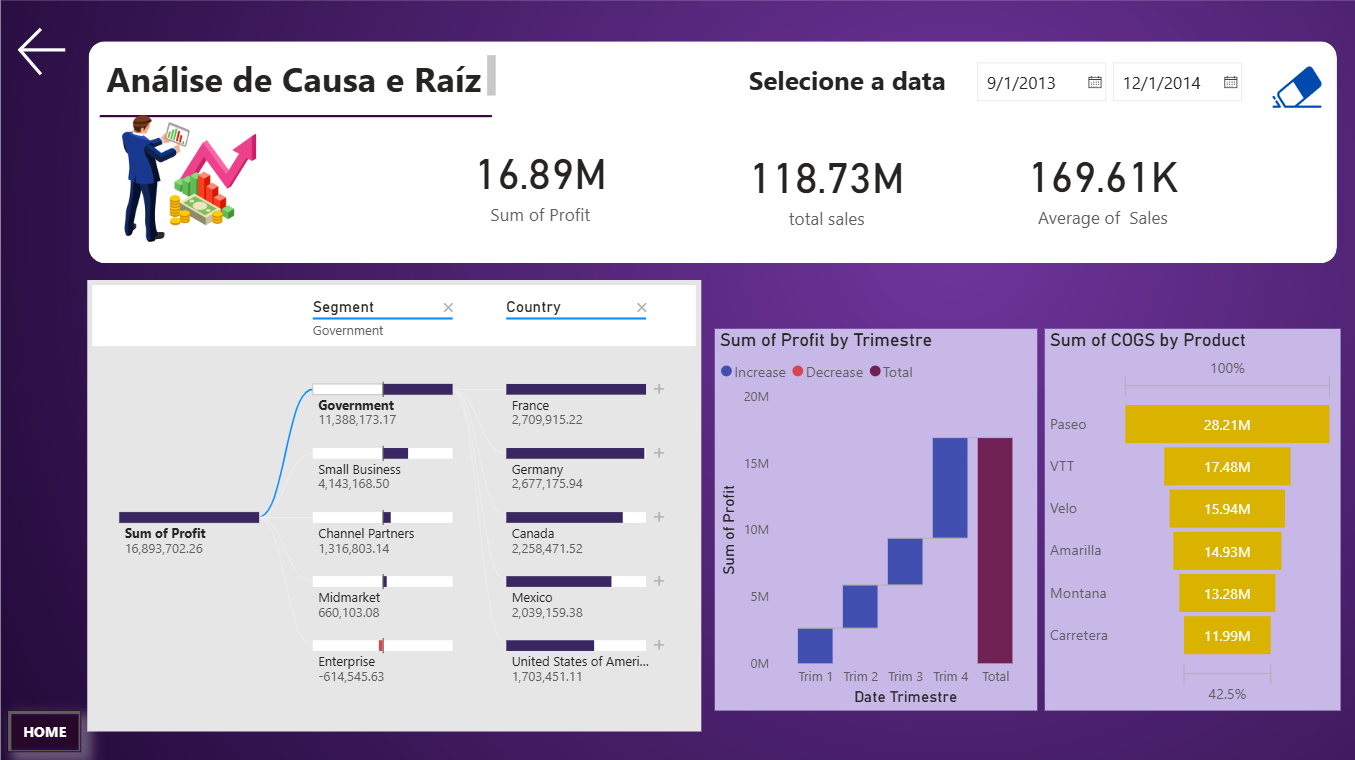

What the dashboard file says about the page in this screenshot:
{"tool":"powerbi","page":{"name":"Analise de Causa Raiz","canvas":[1280,720],"ordinal":4},"visuals":[{"type":"image","title":"fundo_purple","box":[0,0,1280.3,720],"z":0},{"type":"shape","box":[91.3,42.5,1161.3,206.6],"z":0,"group":"g1"},{"type":"actionButton","title":"Botão - Next","box":[19.8,24.4,58,56.3],"z":1000},{"type":"shape","box":[101.3,96.9,365,30],"z":1000,"group":"g1"},{"type":"slicer","fields":{"Values":["financials.Date"]},"box":[905.3,51.8,272.2,55.6],"z":2000,"group":"g1"},{"type":"actionButton","box":[1196.5,61.2,58.4,40.3],"z":2000},{"type":"textbox","box":[700.1,57.5,199.6,45.6],"z":3000,"group":"g1"},{"type":"textbox","box":[18.6,670.9,62.8,29.1],"z":3000},{"type":"card","fields":{"Values":["financials.total sales"]},"box":[672.6,124.4,211,105.5],"z":4000,"group":"g1"},{"type":"actionButton","box":[15.1,665.1,68.6,39.5],"z":4000},{"type":"group","id":"g1","title":"Filtro por data","box":[89.7,42.5,1162.9,206.6],"z":5000},{"type":"textbox","box":[102.6,50.6,372.5,50],"z":5000,"group":"g1"},{"type":"actionButton","box":[1191.8,56.1,59.9,51.3],"z":6000,"group":"g1"},{"type":"decompositionTreeVisual","fields":{"Analyze":["Sum(financials.Profit)"],"ExplainBy":["financials.Segment","financials.Country","financials.Product"]},"box":[90,265,571.2,420],"z":6000},{"type":"waterfallChart","fields":{"Category":["financials.Date.Variation.Hierarquia de datas.Trimestre"],"Y":["Sum(financials.Profit)"]},"box":[673.8,310,300,355],"z":6001},{"type":"funnel","fields":{"Category":["financials.Product"],"Y":["Sum(financials.COGS)"]},"box":[980,310,275,355],"z":6002},{"type":"actionButton","box":[1171.2,62.5,73.8,51.2],"z":6003},{"type":"image","title":"clean","box":[1185.1,58.1,59.9,55.6],"z":8000,"group":"g1"},{"type":"card","fields":{"Values":["Avg(financials. Sales)"]},"box":[928.8,123.1,211,105.5],"z":9000,"group":"g1"},{"type":"card","fields":{"Values":["Sum(financials.Profit)"]},"box":[406.3,120.6,211,105.5],"z":11000,"group":"g1"},{"type":"image","box":[89.7,101.9,224.4,137.2],"z":12000,"group":"g1"}]}

Visuals, with their boxes in screenshot pixels (x1, y1, x2, y2), scaled from the page's 1280x720 canvas onto the 1355x760 screenshot:
"fundo_purple" image: locate(0, 0, 1354, 759)
shape: locate(97, 45, 1326, 263)
"Botão - Next" actionButton: locate(21, 26, 82, 85)
shape: locate(107, 102, 494, 134)
slicer - financials.Date: locate(958, 55, 1246, 113)
actionButton: locate(1267, 65, 1328, 107)
textbox: locate(741, 61, 952, 109)
textbox: locate(20, 708, 86, 739)
card - financials.total sales: locate(712, 131, 935, 243)
actionButton: locate(16, 702, 89, 744)
"Filtro por data" group: locate(95, 45, 1326, 263)
textbox: locate(109, 53, 503, 106)
actionButton: locate(1262, 59, 1325, 113)
decompositionTreeVisual - Sum(financials.Profit) x financials.Segment: locate(95, 280, 700, 723)
waterfallChart - financials.Date.Variation.Hierarquia de datas.Trimestre x Sum(financials.Profit): locate(713, 327, 1031, 702)
funnel - financials.Product x Sum(financials.COGS): locate(1037, 327, 1329, 702)
actionButton: locate(1240, 66, 1318, 120)
"clean" image: locate(1255, 61, 1318, 120)
card - Avg(financials. Sales): locate(983, 130, 1207, 241)
card - Sum(financials.Profit): locate(430, 127, 653, 239)
image: locate(95, 108, 333, 252)
